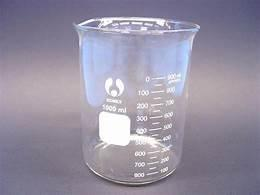Beaker: (72, 5, 197, 185)
